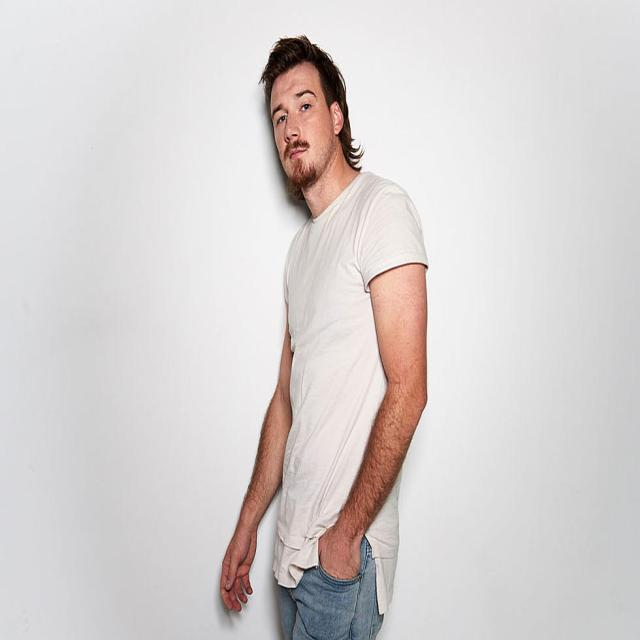human: (219, 33, 431, 640)
